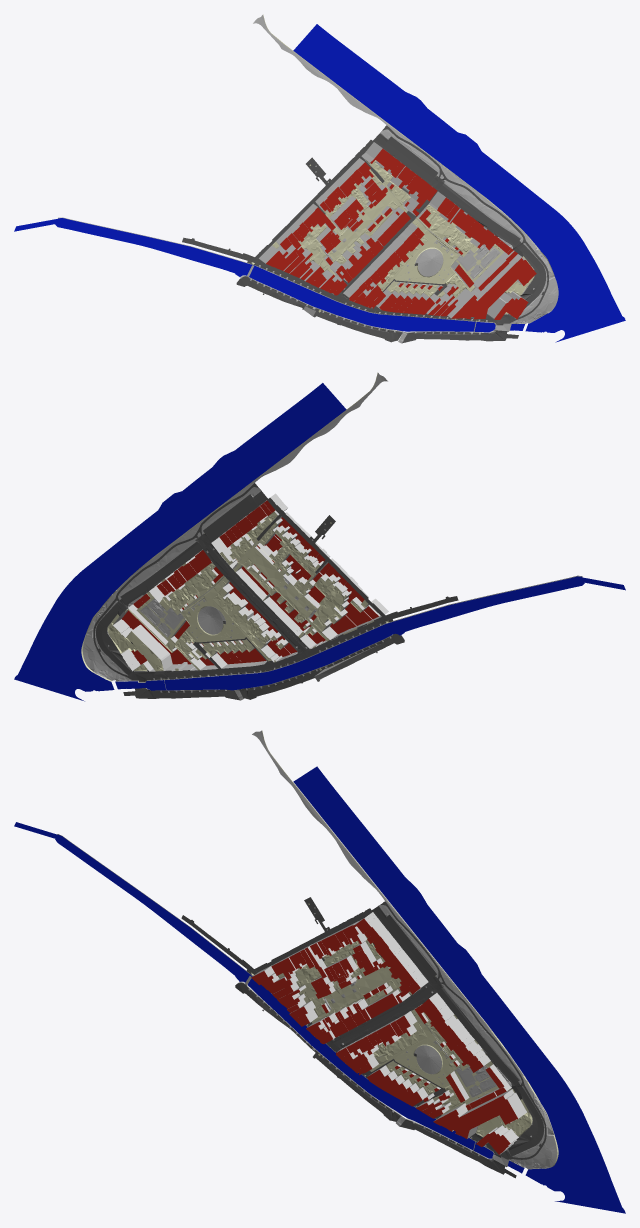
The model's file is inner_wall_false.obj.
3 renders of one model, top to bottom at view 1: azimuth 30°, elevation 25°; view 2: azimuth 150°, elevation 25°; view 3: azimuth 330°, elevation 25°, orthographic.
Visible parts, largest first — view 1: b69a8d7bc-2d38-11e6-9a38-393caa90be70, bedab6302-00c8-11e6-b420-2bdcc4ab5d7f, b1105d28c-00ba-11e6-b420-2bdcc4ab5d7f, b2c160b4d-2d29-11e6-9a38-393caa90be70, b492abedc-00b4-11e6-b420-2bdcc4ab5d7f, b983a1b0d-00c9-11e6-b420-2bdcc4ab5d7f, b221e7287-00b5-11e6-b420-2bdcc4ab5d7f, b4138231e-00b4-11e6-b420-2bdcc4ab5d7f, b984231ca-00c9-11e6-b420-2bdcc4ab5d7f, b31be22bd-00ba-11e6-b420-2bdcc4ab5d7f, baef3f9c3-00c9-11e6-b420-2bdcc4ab5d7f, b1128007f-00ba-11e6-b420-2bdcc4ab5d7f (+10 smaller); view 2: b69a8d7bc-2d38-11e6-9a38-393caa90be70, bedab6302-00c8-11e6-b420-2bdcc4ab5d7f, b1105d28c-00ba-11e6-b420-2bdcc4ab5d7f, b2c160b4d-2d29-11e6-9a38-393caa90be70, b492abedc-00b4-11e6-b420-2bdcc4ab5d7f, b221e7287-00b5-11e6-b420-2bdcc4ab5d7f, b983a1b0d-00c9-11e6-b420-2bdcc4ab5d7f, b4138231e-00b4-11e6-b420-2bdcc4ab5d7f, b2223065e-00b5-11e6-b420-2bdcc4ab5d7f, b4931c302-00b4-11e6-b420-2bdcc4ab5d7f, b22250278-00b5-11e6-b420-2bdcc4ab5d7f, b984231ca-00c9-11e6-b420-2bdcc4ab5d7f (+14 smaller); view 3: b69a8d7bc-2d38-11e6-9a38-393caa90be70, bedab6302-00c8-11e6-b420-2bdcc4ab5d7f, b1105d28c-00ba-11e6-b420-2bdcc4ab5d7f, b2c160b4d-2d29-11e6-9a38-393caa90be70, b492abedc-00b4-11e6-b420-2bdcc4ab5d7f, b4138231e-00b4-11e6-b420-2bdcc4ab5d7f, b983a1b0d-00c9-11e6-b420-2bdcc4ab5d7f, b82575848-2d29-11e6-9a38-393caa90be70, b4931c302-00b4-11e6-b420-2bdcc4ab5d7f, b2223065e-00b5-11e6-b420-2bdcc4ab5d7f, baef3f9c3-00c9-11e6-b420-2bdcc4ab5d7f, b31be22bd-00ba-11e6-b420-2bdcc4ab5d7f.
Part boxes in pixels (x1,y1,x2,y2): b69a8d7bc-2d38-11e6-9a38-393caa90be70: [293, 24, 625, 342]; bedab6302-00c8-11e6-b420-2bdcc4ab5d7f: [14, 218, 475, 331]; b1105d28c-00ba-11e6-b420-2bdcc4ab5d7f: [447, 254, 536, 319]; b2c160b4d-2d29-11e6-9a38-393caa90be70: [253, 15, 534, 248]; b492abedc-00b4-11e6-b420-2bdcc4ab5d7f: [381, 222, 458, 291]; b983a1b0d-00c9-11e6-b420-2bdcc4ab5d7f: [255, 140, 384, 258]; b221e7287-00b5-11e6-b420-2bdcc4ab5d7f: [416, 204, 478, 257]; b4138231e-00b4-11e6-b420-2bdcc4ab5d7f: [322, 182, 407, 273]; b984231ca-00c9-11e6-b420-2bdcc4ab5d7f: [182, 237, 334, 298]; b31be22bd-00ba-11e6-b420-2bdcc4ab5d7f: [487, 291, 528, 319]; baef3f9c3-00c9-11e6-b420-2bdcc4ab5d7f: [404, 331, 518, 342]; b1128007f-00ba-11e6-b420-2bdcc4ab5d7f: [372, 207, 410, 246]; b69a8d7bc-2d38-11e6-9a38-393caa90be70: [14, 383, 346, 701]; bedab6302-00c8-11e6-b420-2bdcc4ab5d7f: [164, 576, 625, 690]; b1105d28c-00ba-11e6-b420-2bdcc4ab5d7f: [113, 609, 197, 671]; b2c160b4d-2d29-11e6-9a38-393caa90be70: [106, 373, 387, 606]; b492abedc-00b4-11e6-b420-2bdcc4ab5d7f: [182, 580, 271, 661]; b221e7287-00b5-11e6-b420-2bdcc4ab5d7f: [159, 563, 223, 614]; b983a1b0d-00c9-11e6-b420-2bdcc4ab5d7f: [256, 498, 385, 616]; b4138231e-00b4-11e6-b420-2bdcc4ab5d7f: [233, 540, 329, 641]; b2223065e-00b5-11e6-b420-2bdcc4ab5d7f: [312, 577, 346, 631]; b4931c302-00b4-11e6-b420-2bdcc4ab5d7f: [212, 588, 276, 648]; b22250278-00b5-11e6-b420-2bdcc4ab5d7f: [255, 528, 319, 575]; b984231ca-00c9-11e6-b420-2bdcc4ab5d7f: [304, 596, 458, 657]; b69a8d7bc-2d38-11e6-9a38-393caa90be70: [293, 766, 625, 1213]; bedab6302-00c8-11e6-b420-2bdcc4ab5d7f: [14, 822, 474, 1149]; b1105d28c-00ba-11e6-b420-2bdcc4ab5d7f: [433, 1089, 526, 1138]; b2c160b4d-2d29-11e6-9a38-393caa90be70: [252, 730, 533, 1096]; b492abedc-00b4-11e6-b420-2bdcc4ab5d7f: [369, 1014, 457, 1088]; b4138231e-00b4-11e6-b420-2bdcc4ab5d7f: [311, 957, 401, 1023]; b983a1b0d-00c9-11e6-b420-2bdcc4ab5d7f: [254, 897, 381, 972]; b82575848-2d29-11e6-9a38-393caa90be70: [262, 730, 554, 1134]; b4931c302-00b4-11e6-b420-2bdcc4ab5d7f: [373, 1021, 427, 1063]; b2223065e-00b5-11e6-b420-2bdcc4ab5d7f: [295, 964, 325, 1016]; baef3f9c3-00c9-11e6-b420-2bdcc4ab5d7f: [401, 1120, 516, 1178]; b31be22bd-00ba-11e6-b420-2bdcc4ab5d7f: [476, 1125, 518, 1154].
Bounding box in the file's own units: 524 × 328 × 28.8.
